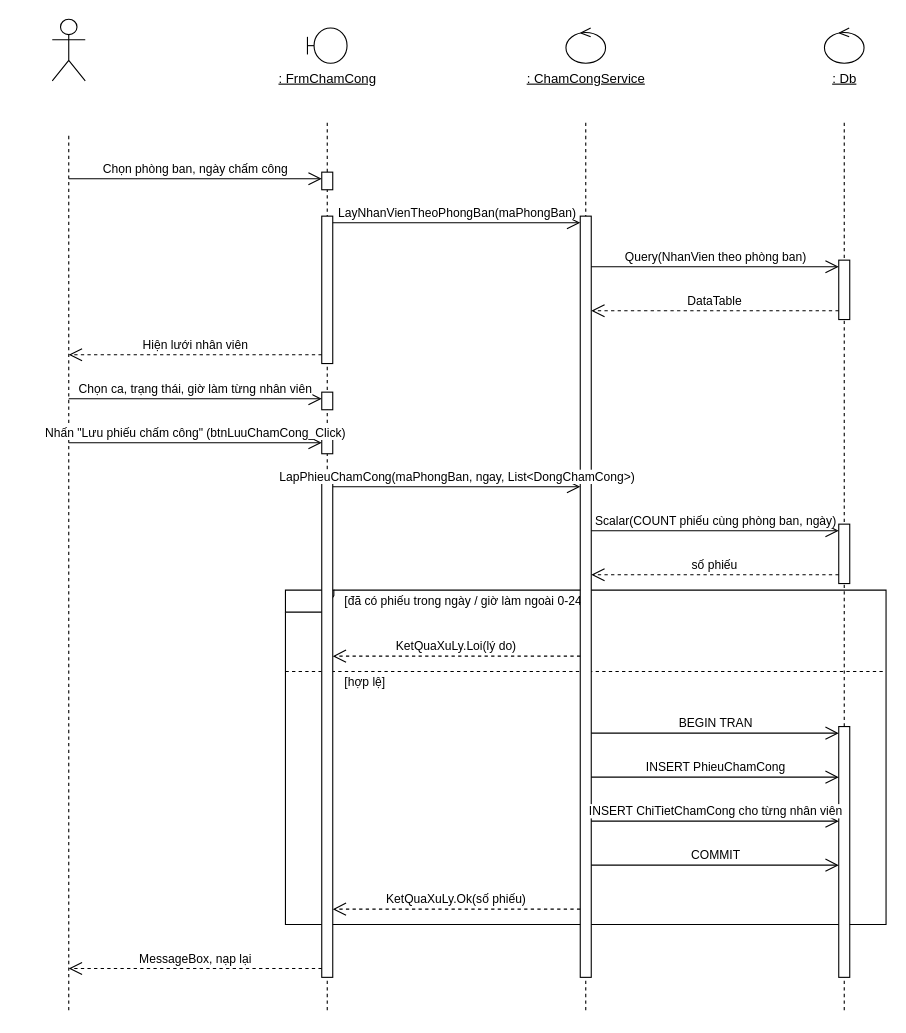
Image size: 906x1033. Some labels were removed from this diagram. Each missing label, with the box of its shape:
: Ban chấm công: (51, 18, 85, 81)
alt: (284, 589, 886, 925)
